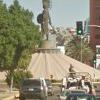Statue: (31, 2, 72, 71)
